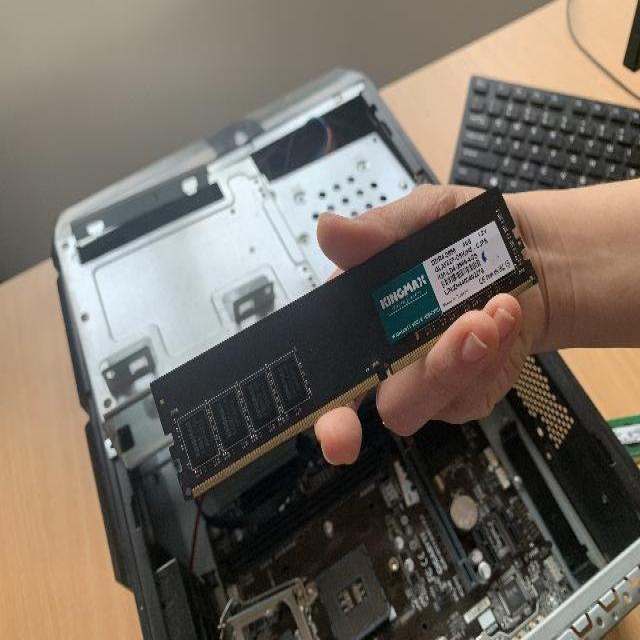RAM: (148, 182, 540, 502)
